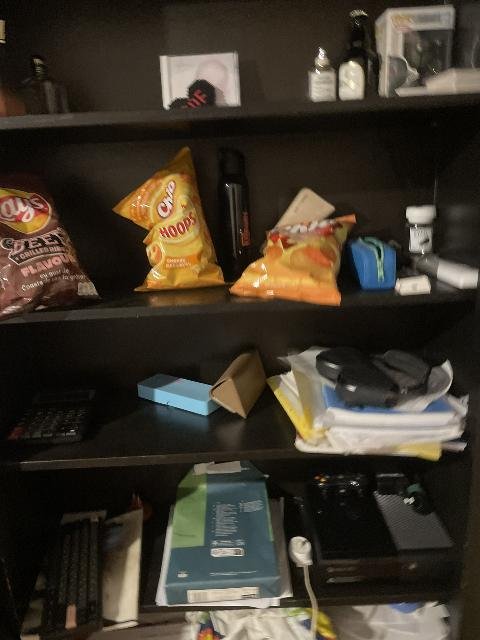Chio Cascaval 125g: (228, 210, 350, 307)
Chio Hula Hoops Cheese 70g: (113, 146, 227, 293)
Lays Beef Grilled Ribs 125g: (0, 172, 104, 320)
